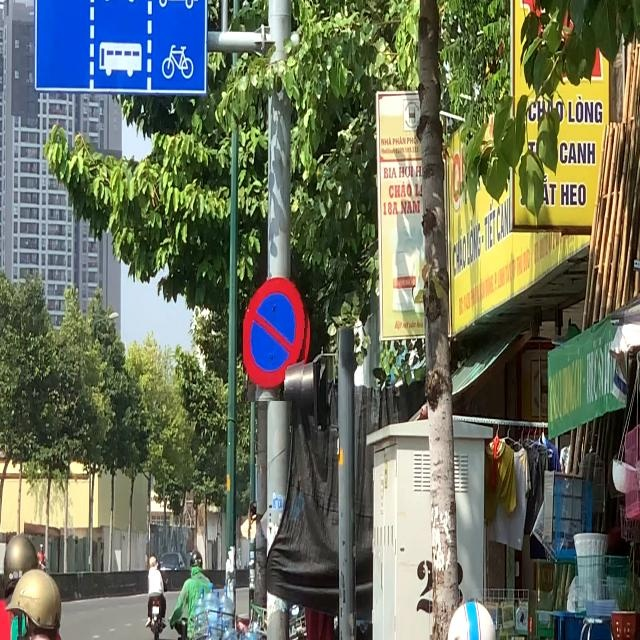bien_cam: (243, 272, 313, 402)
